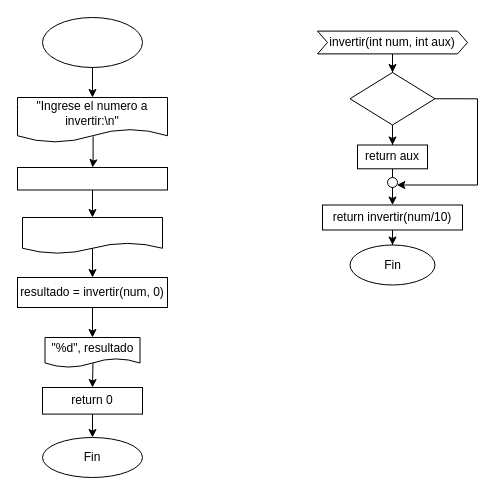
The diagram is 503 pixels wide and 495 high, and some of its shapes have lost their labels. Here are the shapes that lost their labels. From the top down, the box of each, then its label:
(42, 16, 142, 68): Inicio
(349, 72, 435, 125): num == 0
(16, 166, 168, 190): num = validar_int_min(0);
(22, 216, 162, 254): El numero inverso es: \n
